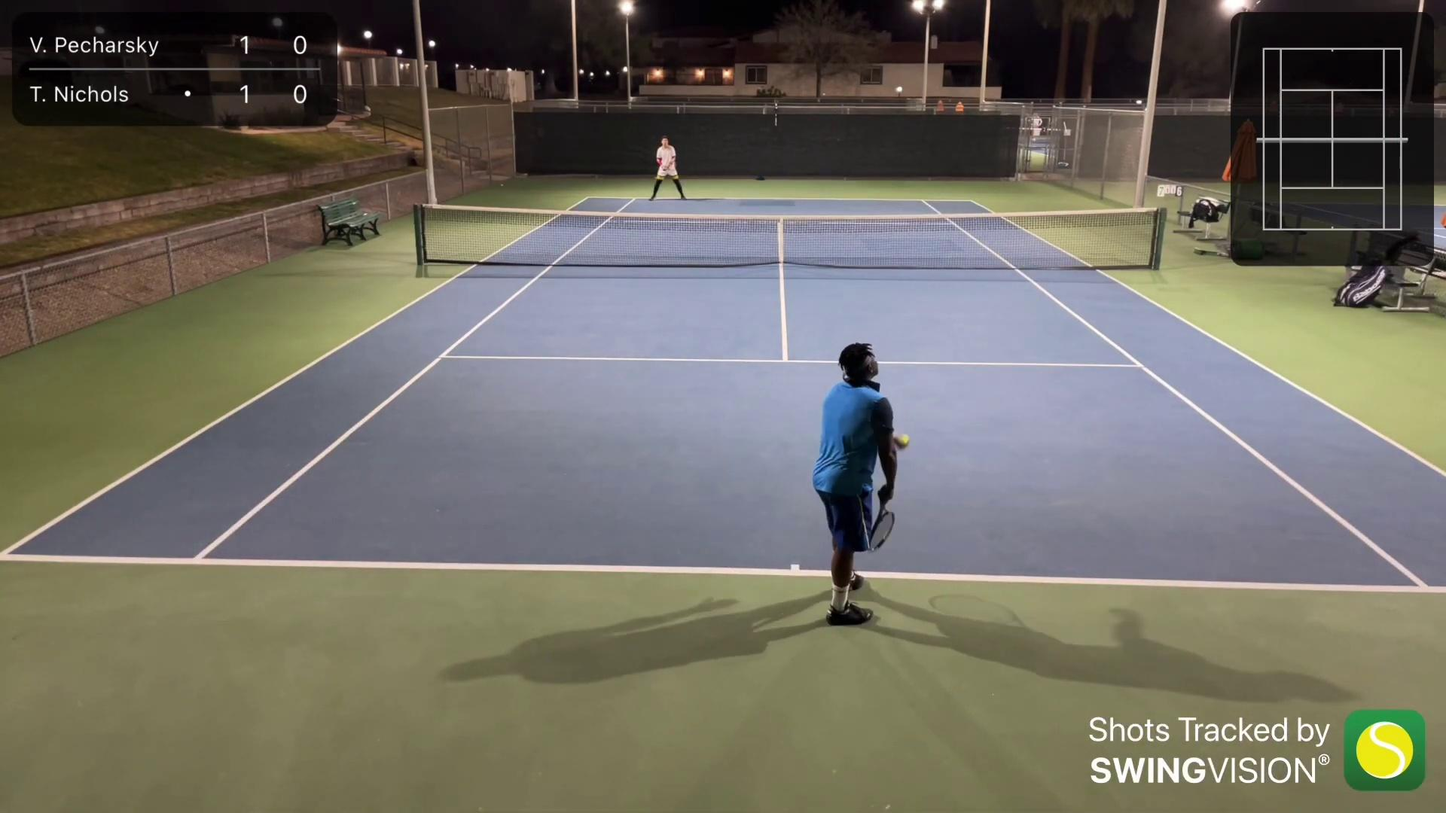ball: (898, 427, 913, 451)
